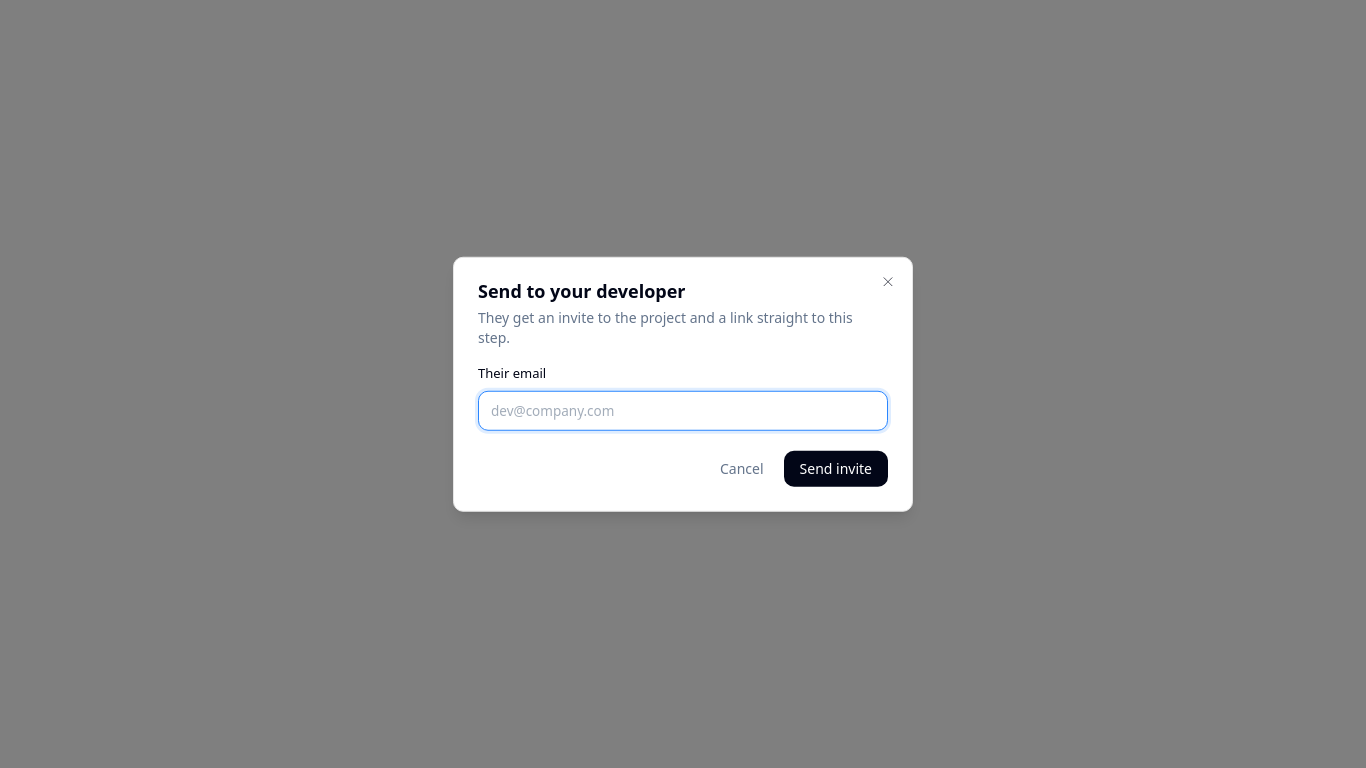
SendToDeveloperDialog › says the invite was emailed on cloud
Type "dev@segments.io" into the field labelled "Their email". click: (684, 410)
box: 491,391 -> 877,429
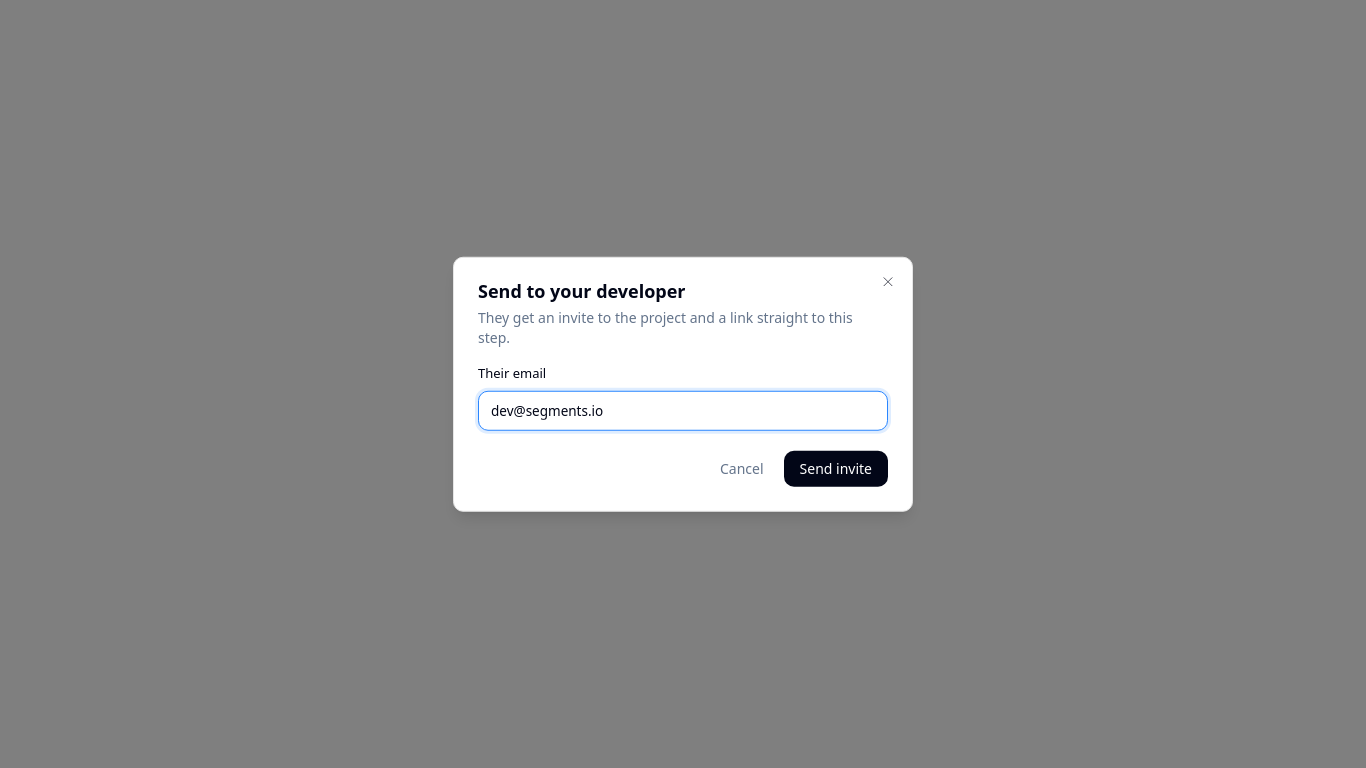
Click the button "Send invite". click: (836, 468)
box: 784,450 -> 888,486
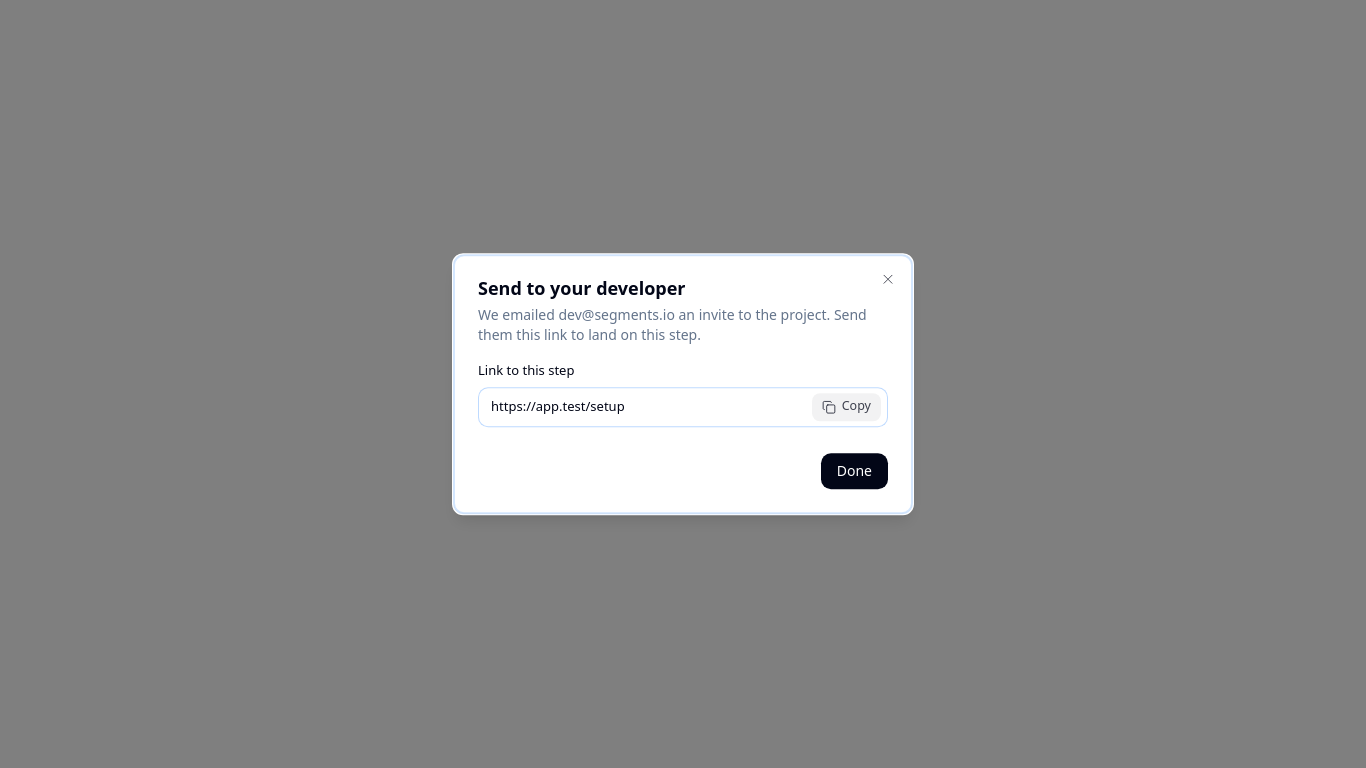
Expected: the text "Link to this step" is shown, 478,361 -> 574,379
Expected: the text "We emailed dev@segments.io" is shown, 478,305 -> 867,344
